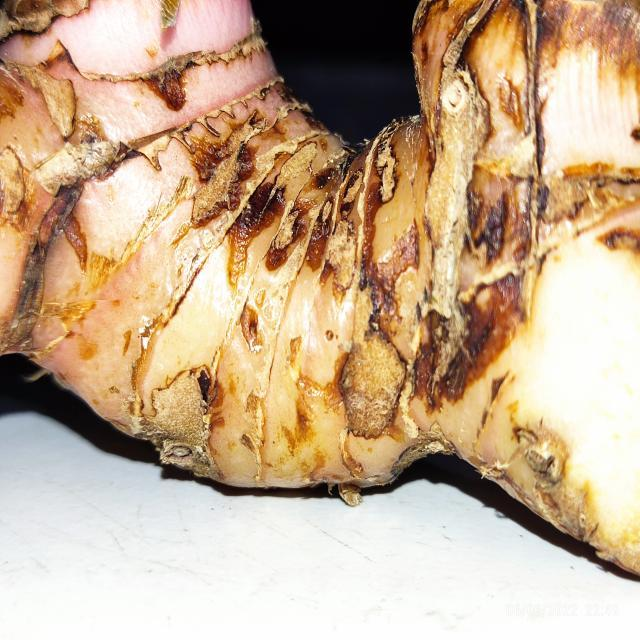ginger: (0, 8, 640, 540)
